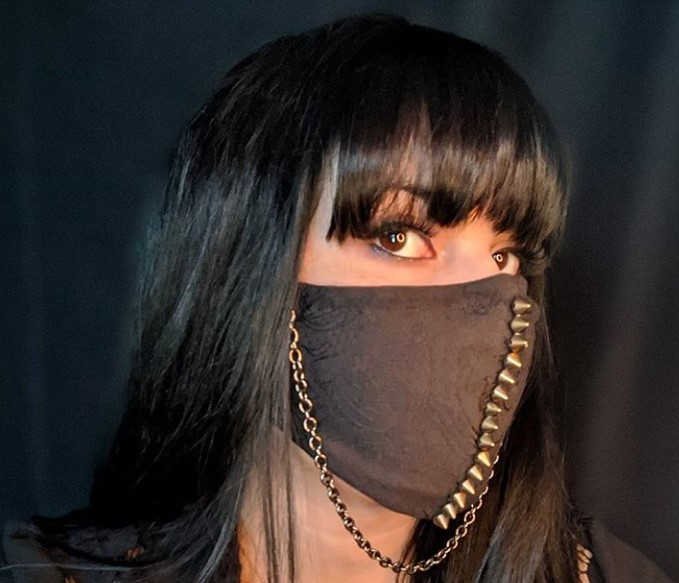face_with_mask: (185, 24, 566, 574)
